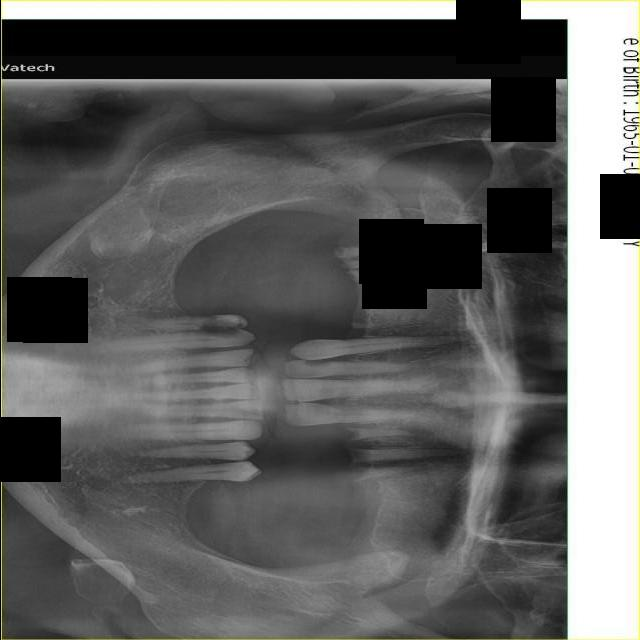72: (353, 438, 467, 464), (356, 460, 436, 483), (346, 424, 418, 445), (349, 265, 376, 285), (333, 248, 391, 257), (343, 256, 384, 268), (352, 322, 380, 329)
Sterngold Implant: (198, 316, 246, 329), (192, 330, 240, 340), (303, 360, 333, 369), (286, 403, 300, 407), (287, 397, 301, 401)
